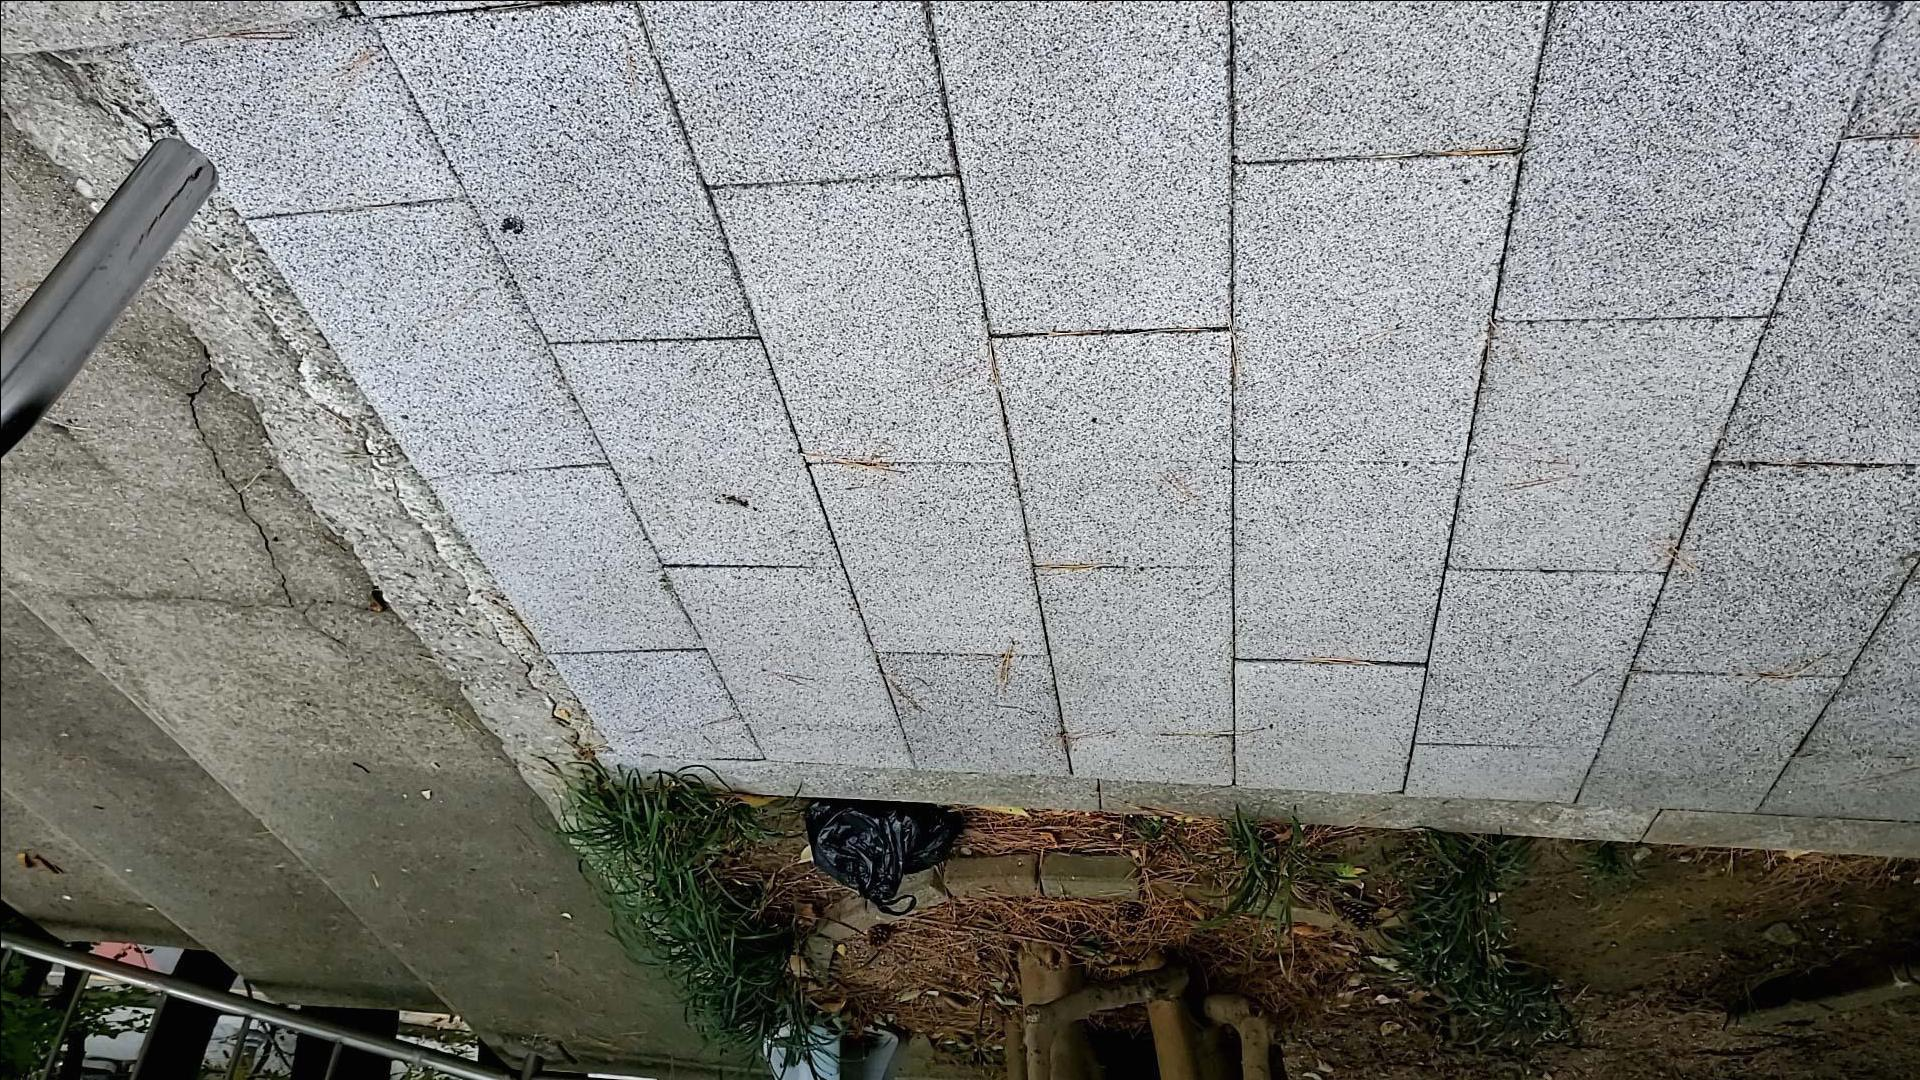black_bag: (794, 785, 973, 927)
